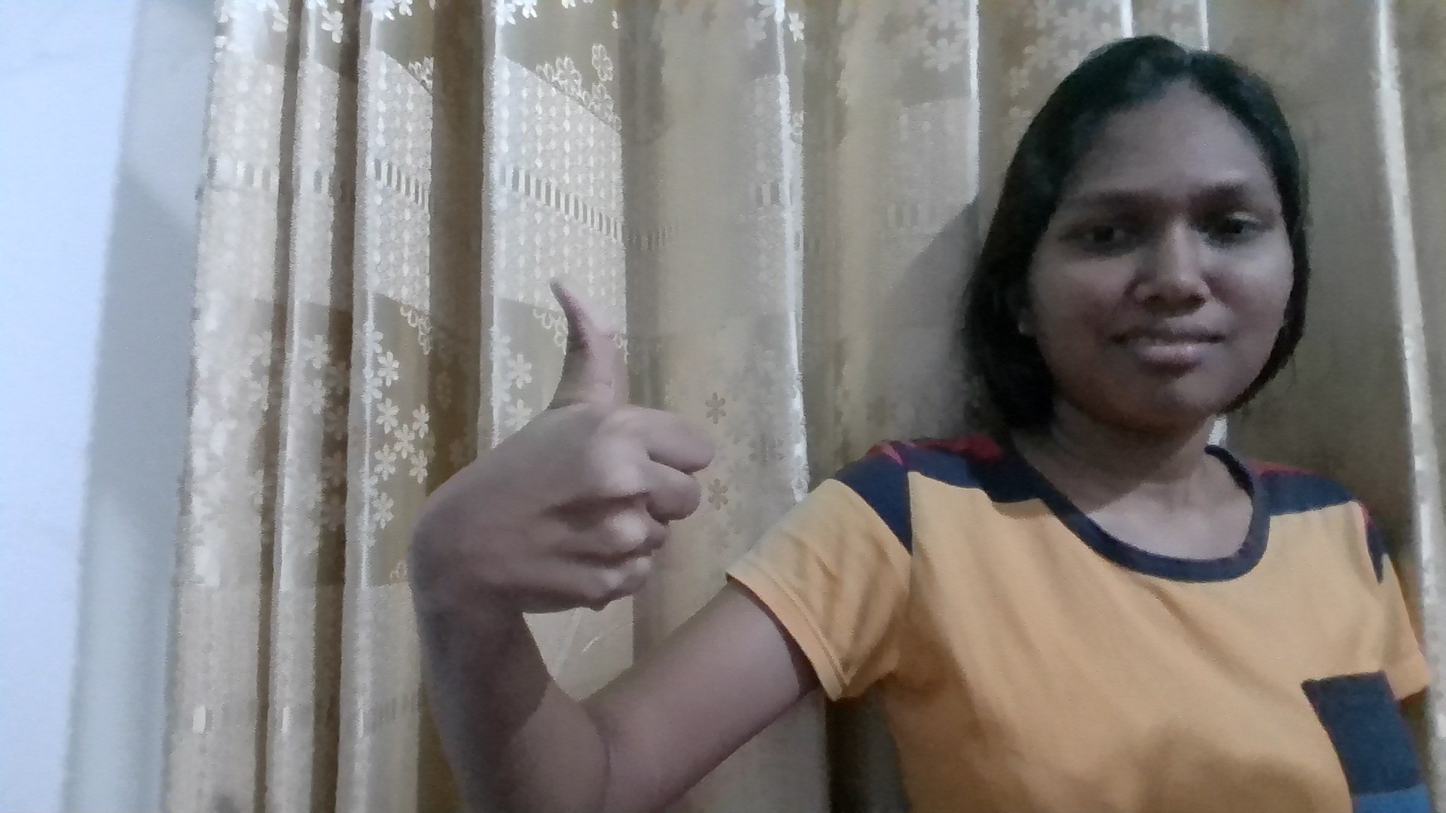Thumbs Up: (352, 269, 749, 698)
